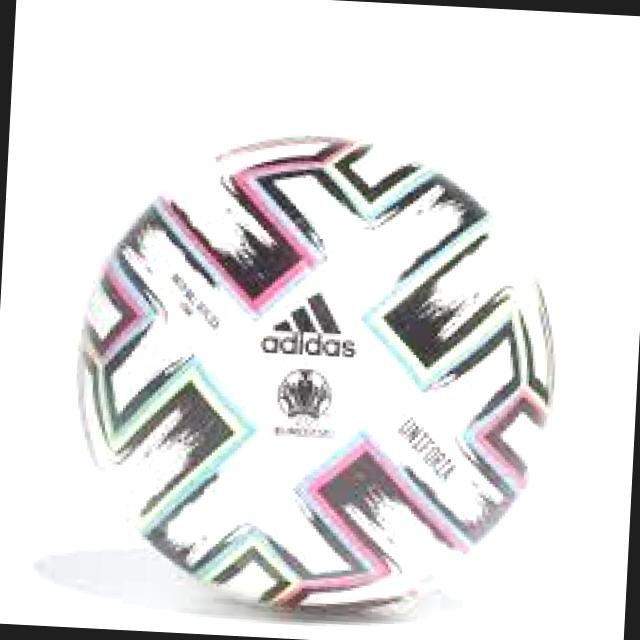Soccer Ball: (70, 125, 567, 630)
